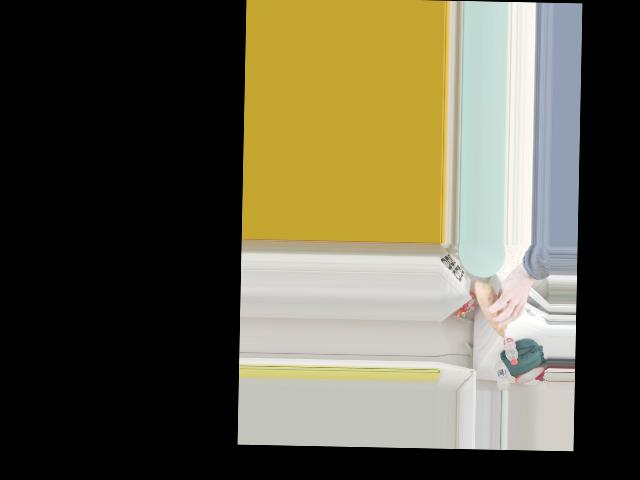sweet_potato: (475, 290, 516, 334)
